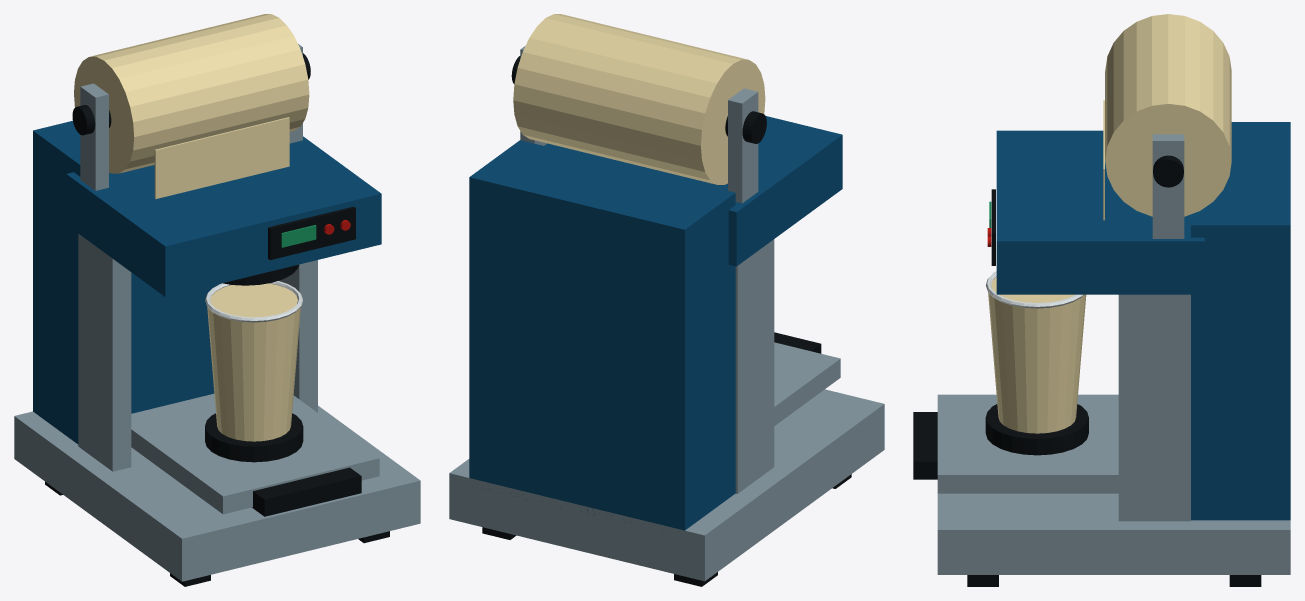
The model's file is cup_sealer.dae.
3 renders of one model, left to right at view 1: azimuth 30°, elevation 25°; view 2: azimuth 150°, elevation 25°; view 3: azimuth 270°, elevation 25°, orthographic. The views are drawn at different scales.
Parts seen in each view (by area): view 1: sealing_head, base, film_roll, rear_column, side_column (×2), cup_drawer, sample_cup, film_feed, drawer_handle, roll_bracket, cup_holder, control_panel (+4 smaller); view 2: rear_column, film_roll, base, sealing_head, side_column, cup_drawer, roll_bracket, film_spindle; view 3: rear_column, sealing_head, base, film_roll, side_column, cup_drawer, sample_cup, cup_holder, roll_bracket, drawer_handle, film_spindle, cup_lip.
Part boxes in pixels (x1=…): sealing_head: x1=66, y1=136, x2=381, y2=296; base: x1=14, y1=405, x2=420, y2=581; film_roll: x1=74, y1=14, x2=309, y2=173; rear_column: x1=33, y1=120, x2=221, y2=444; side_column (×2): x1=78, y1=234, x2=317, y2=471; cup_drawer: x1=131, y1=393, x2=379, y2=514; sample_cup: x1=207, y1=283, x2=300, y2=441; film_feed: x1=154, y1=117, x2=289, y2=199; drawer_handle: x1=252, y1=467, x2=361, y2=516; roll_bracket: x1=80, y1=83, x2=108, y2=190; cup_holder: x1=205, y1=413, x2=303, y2=462; control_panel: x1=268, y1=206, x2=355, y2=260; rear_column: x1=469, y1=140, x2=735, y2=530; film_roll: x1=513, y1=14, x2=765, y2=184; base: x1=449, y1=389, x2=884, y2=581; sealing_head: x1=544, y1=116, x2=842, y2=266; side_column: x1=735, y1=239, x2=774, y2=493; cup_drawer: x1=774, y1=342, x2=840, y2=425; roll_bracket: x1=728, y1=88, x2=758, y2=203; film_spindle: x1=511, y1=56, x2=766, y2=143; rear_column: x1=1191, y1=122, x2=1290, y2=520; sealing_head: x1=996, y1=130, x2=1204, y2=294; base: x1=937, y1=493, x2=1290, y2=574; film_roll: x1=1105, y1=14, x2=1231, y2=216; side_column: x1=1118, y1=294, x2=1190, y2=521; cup_drawer: x1=937, y1=394, x2=1118, y2=493; sample_cup: x1=988, y1=277, x2=1086, y2=433; cup_holder: x1=985, y1=404, x2=1088, y2=455; roll_bracket: x1=1152, y1=134, x2=1184, y2=238; drawer_handle: x1=913, y1=412, x2=937, y2=479; film_spindle: x1=1153, y1=155, x2=1183, y2=187; cup_lip: x1=986, y1=271, x2=1083, y2=308.
Bounding box in the file's own units: 320 × 417 × 580.
